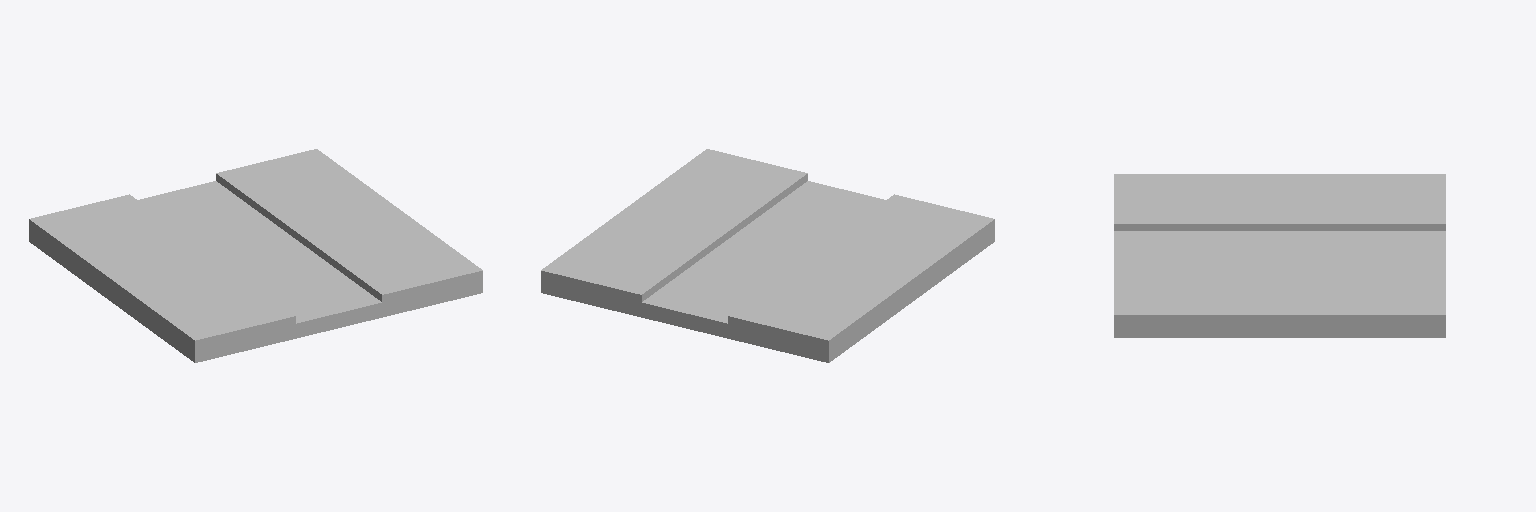
The model's file is road1.obj.
The picture shows the model from 3 angles: view 1: azimuth 30°, elevation 25°; view 2: azimuth 150°, elevation 25°; view 3: azimuth 270°, elevation 25°; orthographic projection.
Parts seen in each view (by area): view 1: road1; view 2: road1; view 3: road1.
Boxes of the visible parts, x1,y1,x2,y2 form: road1: [29, 149, 482, 362]; road1: [541, 149, 994, 362]; road1: [1114, 174, 1445, 337].
Size of the model in its own units: 40 by 3 by 40.